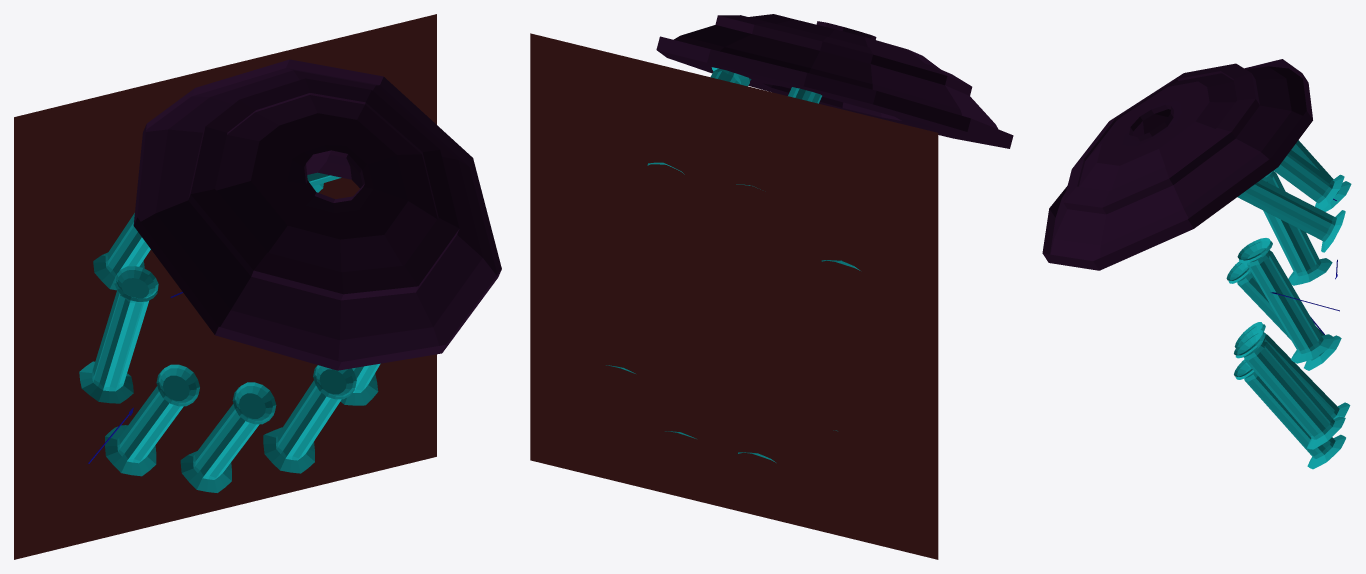
Rendered from Spearyard2d.obj.
3 renders of one model, left to right at view 1: azimuth 30°, elevation 25°; view 2: azimuth 150°, elevation 25°; view 3: azimuth 270°, elevation 25°, orthographic. The views are drawn at different scales.
Visible parts, largest first — view 1: Plane, Plane.012_Plane.013, Plane.002, Plane.001_Plane.012, Plane.003_Plane.014, Plane.004_Plane.015, Plane.009_Plane.020, Plane.005_Plane.016; view 2: Plane, Plane.012_Plane.013; view 3: Plane.012_Plane.013, Plane.006_Plane.017, Plane.005_Plane.016, Plane.007_Plane.018, Plane.002, Plane.004_Plane.015, Plane.008_Plane.019, Plane.001_Plane.012, Plane.003_Plane.014, Plane.009_Plane.020.
Boxes of the visible parts, left/top/right/bottom form: Plane: left=14, top=14, right=436, bottom=559; Plane.012_Plane.013: left=133, top=59, right=501, bottom=370; Plane.002: left=79, top=266, right=158, bottom=403; Plane.001_Plane.012: left=105, top=364, right=199, bottom=476; Plane.003_Plane.014: left=180, top=382, right=276, bottom=492; Plane.004_Plane.015: left=263, top=365, right=356, bottom=473; Plane.009_Plane.020: left=93, top=213, right=150, bottom=290; Plane.005_Plane.016: left=340, top=363, right=380, bottom=405; Plane: left=530, top=33, right=938, bottom=559; Plane.012_Plane.013: left=656, top=14, right=1013, bottom=148; Plane.012_Plane.013: left=1042, top=59, right=1312, bottom=270; Plane.006_Plane.017: left=1237, top=238, right=1334, bottom=363; Plane.005_Plane.016: left=1234, top=330, right=1345, bottom=449; Plane.007_Plane.018: left=1237, top=179, right=1345, bottom=252; Plane.002: left=1262, top=171, right=1332, bottom=285; Plane.004_Plane.015: left=1234, top=359, right=1345, bottom=469; Plane.008_Plane.019: left=1273, top=150, right=1344, bottom=209; Plane.001_Plane.012: left=1226, top=261, right=1341, bottom=370; Plane.003_Plane.014: left=1234, top=322, right=1350, bottom=419; Plane.009_Plane.020: left=1291, top=140, right=1351, bottom=211.
Bounding box in the file's own units: 1.28 × 1.33 × 0.9665.
